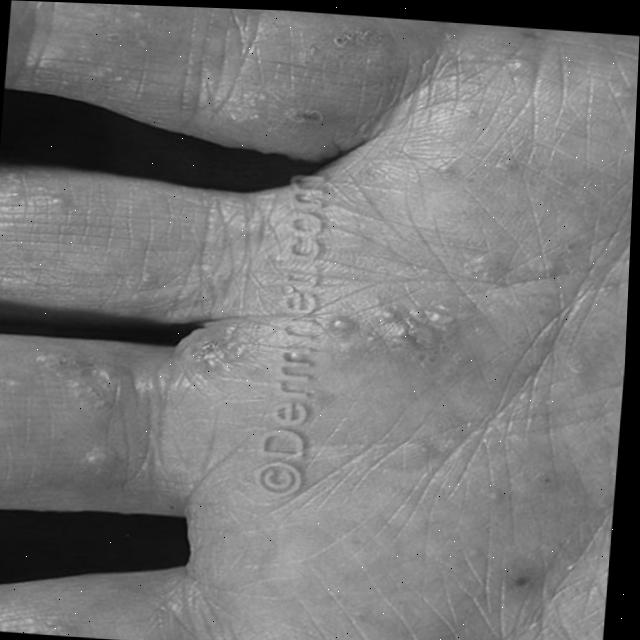Eczema: (42, 200, 512, 508)
